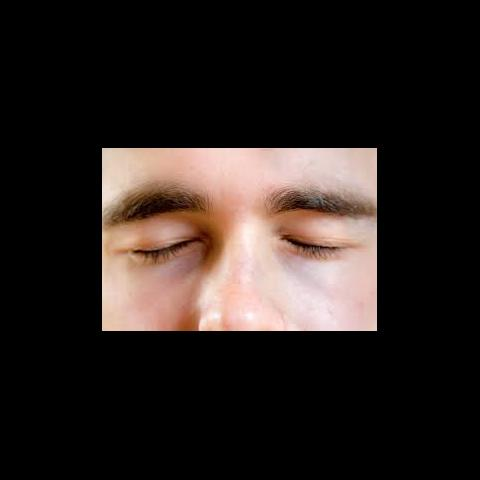closed: (104, 168, 376, 276)
